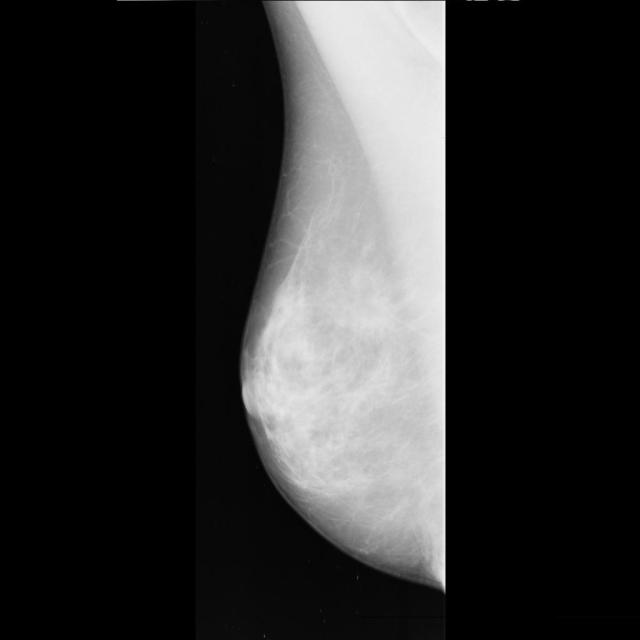tumour: (349, 296, 395, 333)
